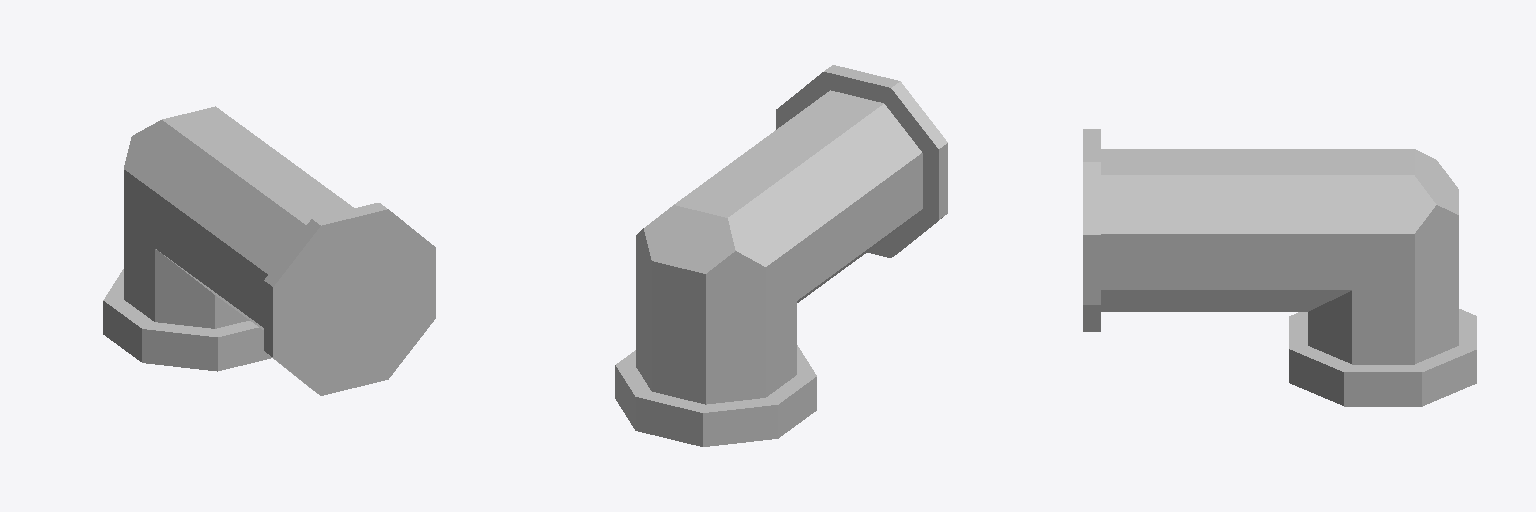
Rendered from pipeworks_spigot_lowpoly.obj.
The picture shows the model from 3 angles: view 1: azimuth 30°, elevation 25°; view 2: azimuth 150°, elevation 25°; view 3: azimuth 270°, elevation 25°; orthographic projection.
Visible parts, largest first — view 1: Cylinder.000_Cylinder.000_None_Cylinder.000_Cylinder.000_No.004; view 2: Cylinder.000_Cylinder.000_None_Cylinder.000_Cylinder.000_No.004; view 3: Cylinder.000_Cylinder.000_None_Cylinder.000_Cylinder.000_No.004.
Part boxes in pixels (x1,y1,x2,y2): Cylinder.000_Cylinder.000_None_Cylinder.000_Cylinder.000_No.004: (103, 106, 435, 395); Cylinder.000_Cylinder.000_None_Cylinder.000_Cylinder.000_No.004: (615, 65, 947, 446); Cylinder.000_Cylinder.000_None_Cylinder.000_Cylinder.000_No.004: (1083, 129, 1476, 406).
Bounding box in the file's own units: 0.3125 × 0.4062 × 0.6562.